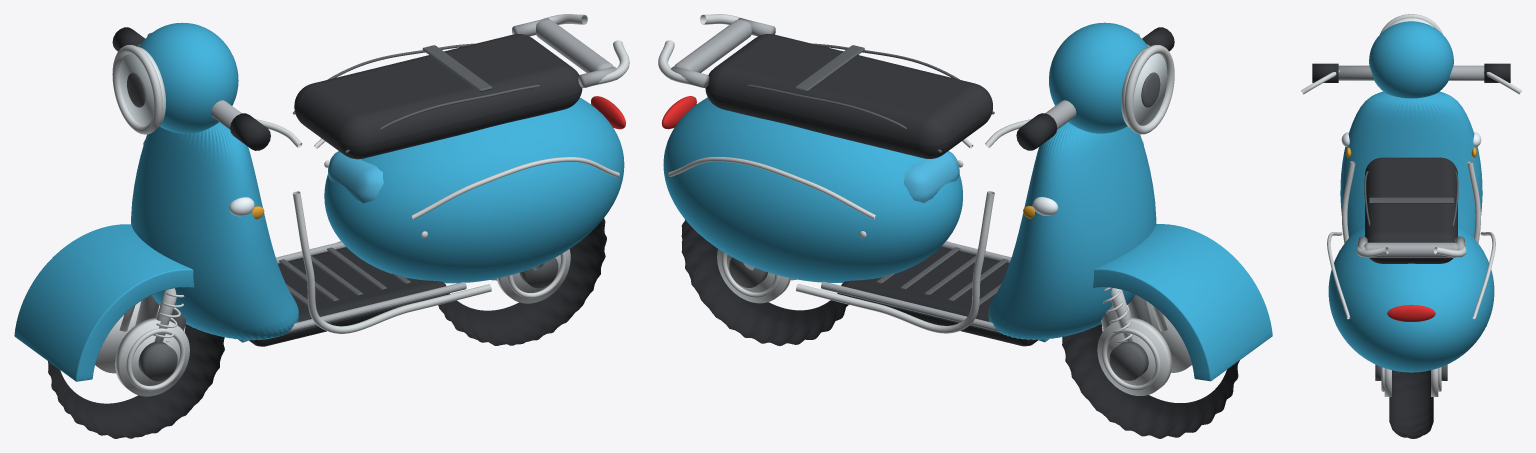
The model's file is scooter-b-refined.glb.
The picture shows the model from 3 angles, left to right: view 1: azimuth 30°, elevation 25°; view 2: azimuth 150°, elevation 25°; view 3: azimuth 270°, elevation 25°; orthographic projection. The views are drawn at different scales.
Parts seen in each view (by area): view 1: B pressed blue rear enclosure, B sculpted swept leg shield, B black two-rider saddle, B formed semicircular front fender, B deep blue headlamp body, B scooter front detailed tread, B scooter rear detailed tread, Dark rubber step-through floor, B chrome step-through outline, B scooter front alloy rim, Under-seat bridge, B machined chrome headlamp bezel (+12 smaller); view 2: B pressed blue rear enclosure, B sculpted swept leg shield, B black two-rider saddle, B formed semicircular front fender, B deep blue headlamp body, B scooter front detailed tread, B scooter rear detailed tread, Dark rubber step-through floor, B chrome step-through outline.001, B scooter front alloy rim.001, Under-seat bridge, B machined chrome headlamp bezel (+12 smaller); view 3: B pressed blue rear enclosure, B sculpted swept leg shield, B black two-rider saddle, B deep blue headlamp body, B scooter rear detailed tread, Passenger grab rail crossbar, Wide handlebars, B rear red marker light, B saddle central strap, B chrome step-through outline, B chrome step-through outline.001, Black handle grip (+6 smaller).
Part boxes in pixels (x1,y1,x2,y2): B pressed blue rear enclosure: (324,97,624,283); B sculpted swept leg shield: (131,122,298,340); B black two-rider saddle: (294,34,582,159); B formed semicircular front fender: (14,224,249,381); B deep blue headlamp body: (139,22,238,133); B scooter front detailed tread: (48,324,224,438); B scooter rear detailed tread: (438,218,606,345); Dark rubber step-through floor: (249,247,447,346); B chrome step-through outline: (292,191,491,333); B scooter front alloy rim: (115,318,189,396); Under-seat bridge: (328,151,383,203); B machined chrome headlamp bezel: (112,45,162,134); B pressed blue rear enclosure: (663,97,962,282); B sculpted swept leg shield: (988,122,1156,339); B black two-rider saddle: (705,34,992,158); B formed semicircular front fender: (1037,224,1272,381); B deep blue headlamp body: (1049,22,1147,133); B scooter front detailed tread: (1062,323,1239,438); B scooter rear detailed tread: (681,219,848,345); Dark rubber step-through floor: (839,247,1038,346); B chrome step-through outline.001: (796,191,994,333); B scooter front alloy rim.001: (1097,317,1172,395); Under-seat bridge: (903,151,959,202); B machined chrome headlamp bezel: (1124,45,1174,134); B pressed blue rear enclosure: (1328,224,1494,372); B sculpted swept leg shield: (1340,91,1482,237); B black two-rider saddle: (1365,157,1457,263); B deep blue headlamp body: (1369,21,1453,98); B scooter rear detailed tread: (1389,370,1433,438); Passenger grab rail crossbar: (1364,242,1458,257); Wide handlebars: (1338,65,1484,80); B rear red marker light: (1387,305,1435,321); B saddle central strap: (1369,197,1453,203); B chrome step-through outline: (1336,161,1355,326); B chrome step-through outline.001: (1467,161,1486,326); Black handle grip: (1312,63,1338,82).
Size of the model in its own units: 2.38 by 1.57 by 1.09.
